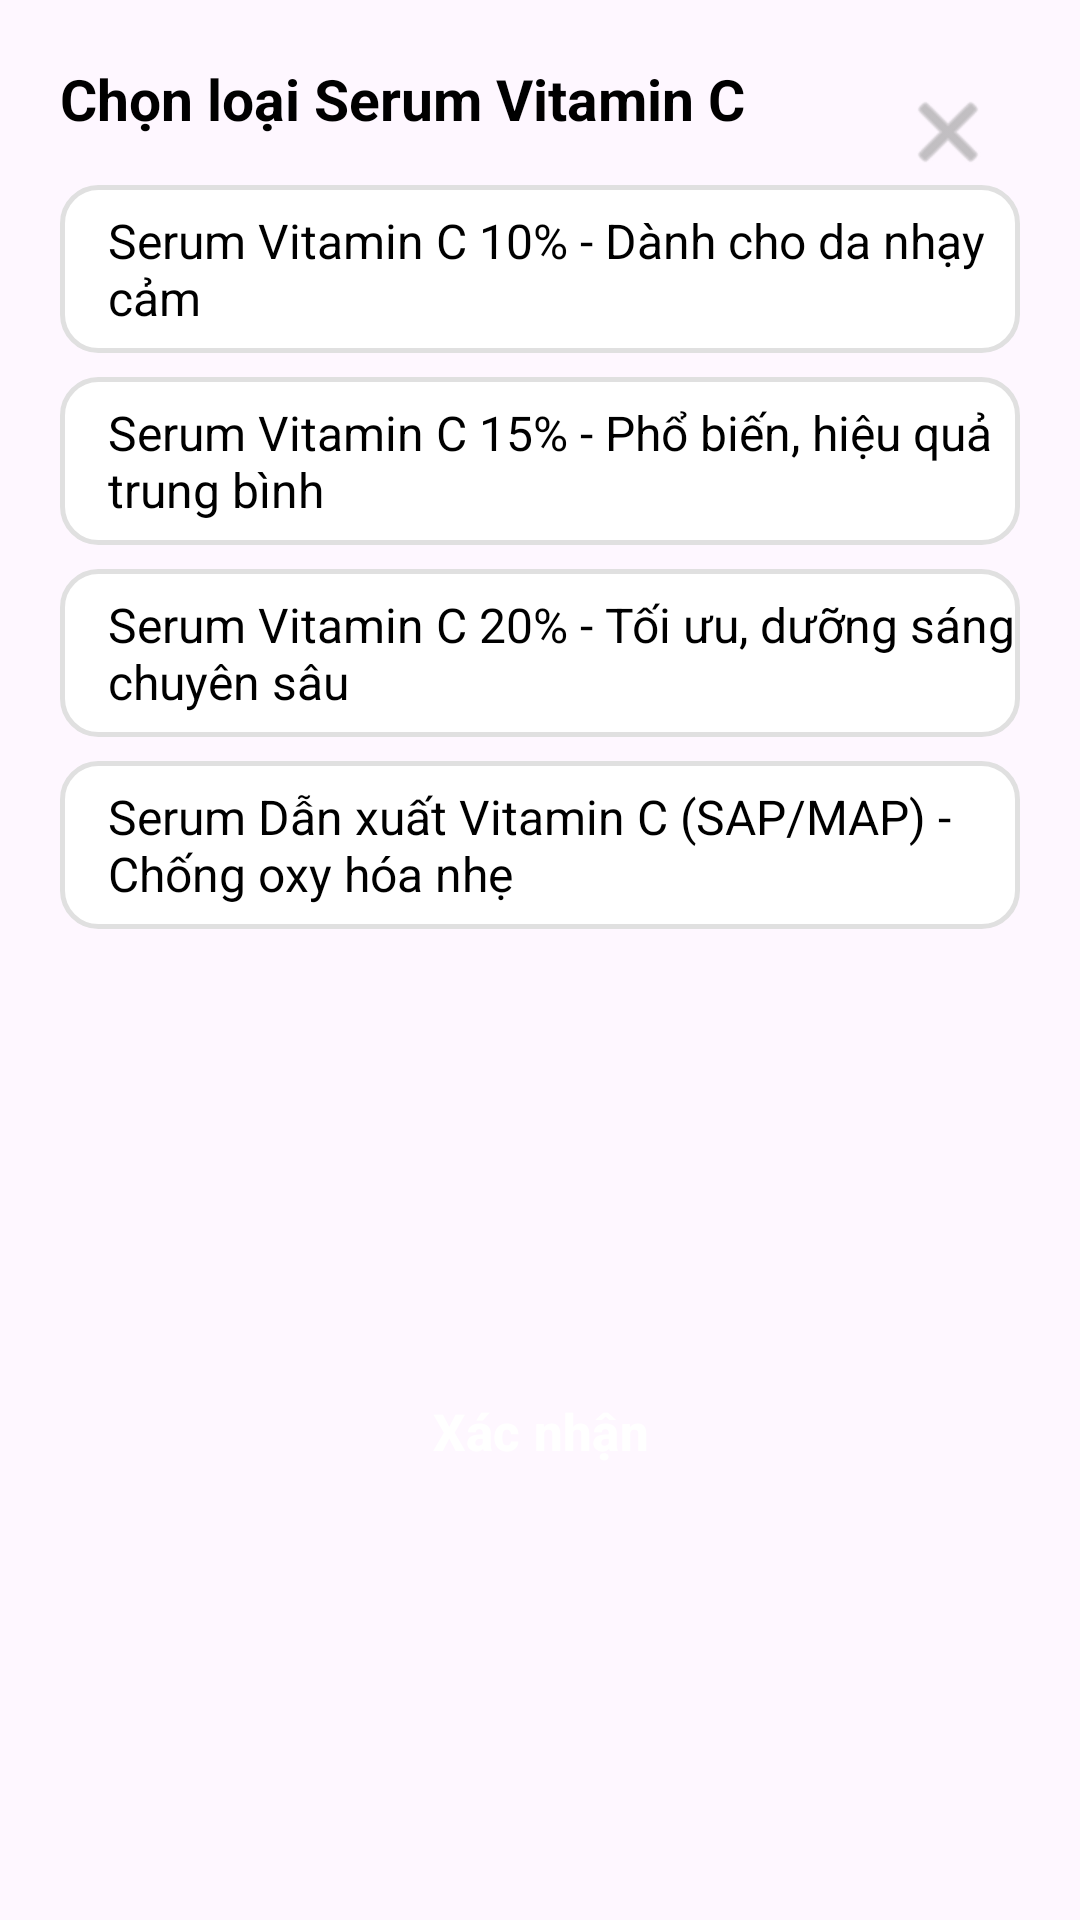

Icon click points for this 1080x1920 phone screenshot, format (x,y):
Đóng: (948,132)
